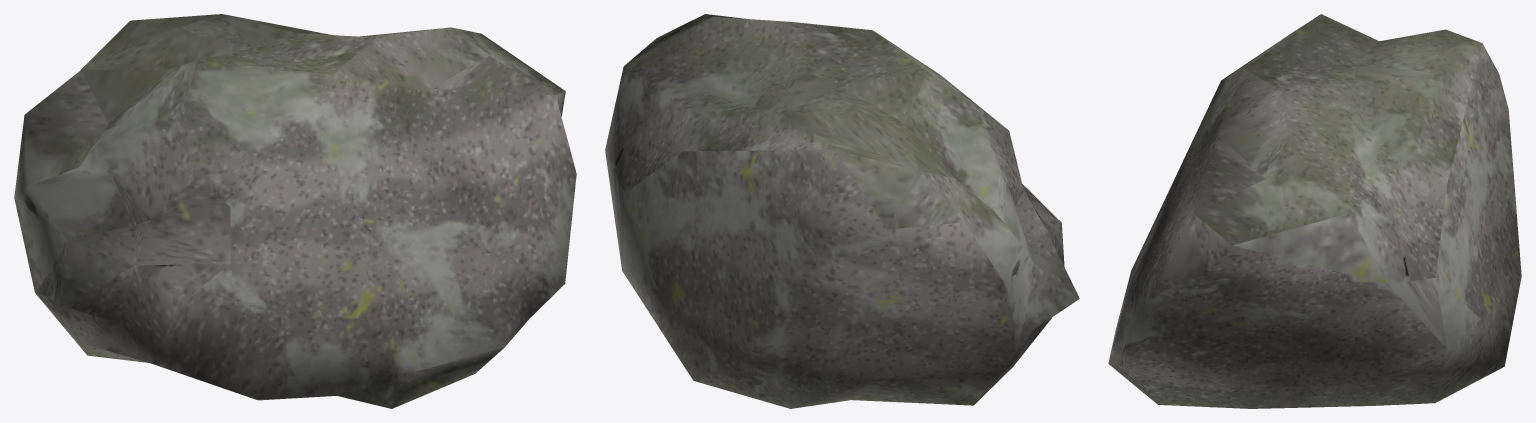
Rendered from boulder_150_LOD2.glb.
3 views of the same model, side by side, from view 1: azimuth 30°, elevation 25°; view 2: azimuth 150°, elevation 25°; view 3: azimuth 270°, elevation 25° (orthographic). The views are drawn at different scales.
Visible parts, largest first — view 1: Boulder_150_LOD2; view 2: Boulder_150_LOD2; view 3: Boulder_150_LOD2.
Boxes of the visible parts, left/top/right/bottom form: Boulder_150_LOD2: left=14, top=14, right=576, bottom=408; Boulder_150_LOD2: left=605, top=14, right=1079, bottom=408; Boulder_150_LOD2: left=1108, top=14, right=1521, bottom=408.
Size of the model in its own units: 1.3 by 0.8247 by 1.
1 material, 1 textured.
